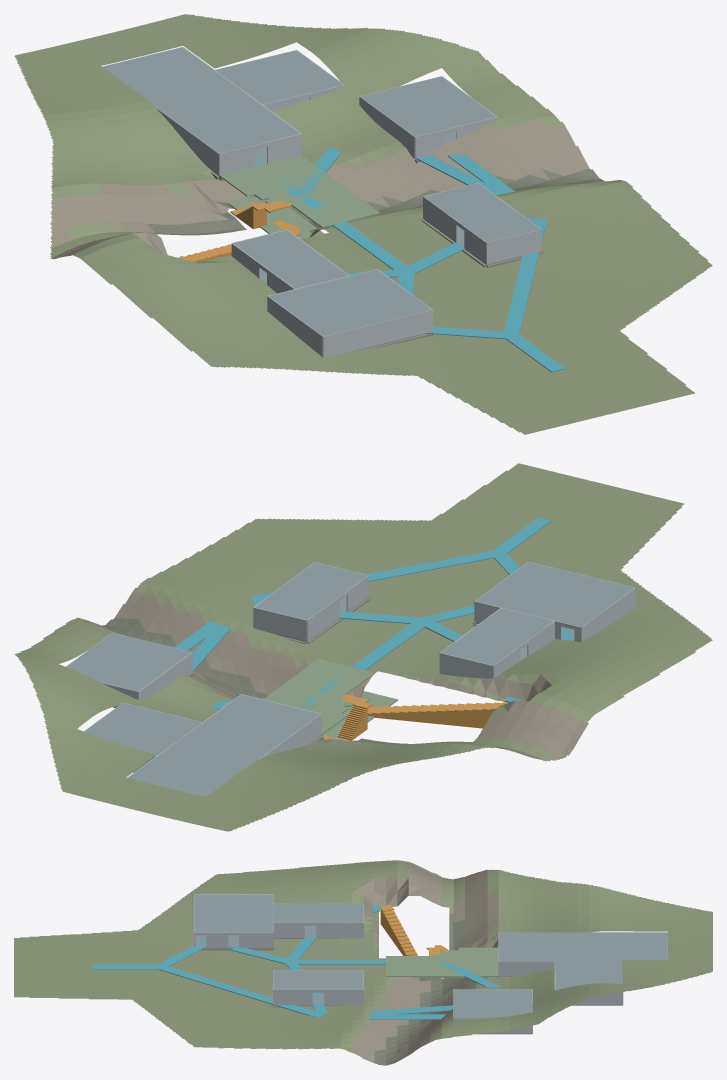
File: benched-terrain.glb
The picture shows the model from 3 angles, top to bottom: view 1: azimuth 30°, elevation 25°; view 2: azimuth 150°, elevation 25°; view 3: azimuth 270°, elevation 25°; orthographic projection. The views are drawn at different scales.
Visible parts, largest first — view 1: Saved editor stair bench terrain WLD-12, Ceiling cap tunnel, Ceiling cap signal, Ceiling cap store, Ceiling cap refuge, Ceiling cap coach-b, Ceiling cap coach-a, Wall signal S, Floor trestle.008, L04 support 0, Floor trestle.005, Wall coach-b S (+10 smaller); view 2: Saved editor stair bench terrain WLD-12, Ceiling cap tunnel, Ceiling cap signal, Ceiling cap store, Ceiling cap refuge, Ceiling cap coach-b, Ceiling cap coach-a, Floor trestle.008, L04 support 0, Wall coach-b N, Wall signal W, Wall coach-a N (+8 smaller); view 3: Saved editor stair bench terrain WLD-12, Ceiling cap tunnel, Ceiling cap signal, Ceiling cap store, Ceiling cap coach-b, Ceiling cap coach-a, Ceiling cap refuge, L04 support 0, Floor trestle.008, Wall coach-a E, Wall tunnel E.001, Wall coach-b E (+14 smaller).
Boxes of the visible parts, bbox=[...] form: Saved editor stair bench terrain WLD-12: bbox=[14, 14, 712, 434]; Ceiling cap tunnel: bbox=[102, 47, 299, 153]; Ceiling cap signal: bbox=[269, 269, 432, 336]; Ceiling cap store: bbox=[360, 76, 496, 136]; Ceiling cap refuge: bbox=[215, 50, 342, 104]; Ceiling cap coach-b: bbox=[424, 183, 540, 242]; Ceiling cap coach-a: bbox=[233, 230, 349, 288]; Wall signal S: bbox=[323, 310, 432, 357]; Floor trestle.008: bbox=[293, 188, 380, 226]; L04 support 0: bbox=[503, 218, 546, 335]; Floor trestle.005: bbox=[248, 155, 324, 185]; Wall coach-b S: bbox=[486, 229, 541, 264]; Saved editor stair bench terrain WLD-12: bbox=[14, 463, 712, 831]; Ceiling cap tunnel: bbox=[128, 694, 320, 796]; Ceiling cap signal: bbox=[475, 562, 634, 627]; Ceiling cap store: bbox=[66, 633, 191, 691]; Ceiling cap refuge: bbox=[84, 703, 202, 755]; Ceiling cap coach-b: bbox=[255, 562, 367, 619]; Ceiling cap coach-a: bbox=[440, 608, 553, 665]; Floor trestle.008: bbox=[285, 659, 369, 695]; L04 support 0: bbox=[250, 550, 501, 602]; Wall coach-b N: bbox=[253, 607, 306, 641]; Wall signal W: bbox=[581, 588, 635, 641]; Wall coach-a N: bbox=[439, 653, 493, 678]; Saved editor stair bench terrain WLD-12: bbox=[14, 860, 712, 1065]; Ceiling cap tunnel: bbox=[498, 932, 667, 960]; Ceiling cap signal: bbox=[194, 894, 273, 932]; Ceiling cap store: bbox=[453, 989, 532, 1018]; Ceiling cap coach-b: bbox=[273, 970, 363, 989]; Ceiling cap coach-a: bbox=[273, 903, 363, 922]; Ceiling cap refuge: bbox=[555, 961, 622, 989]; L04 support 0: bbox=[157, 965, 324, 1017]; Floor trestle.008: bbox=[386, 957, 434, 976]; Wall coach-a E: bbox=[316, 922, 363, 938]; Wall tunnel E.001: bbox=[498, 961, 554, 976]; Wall coach-b E: bbox=[324, 989, 363, 1004].
Size of the model in its own units: 75 by 10.11 by 124.
